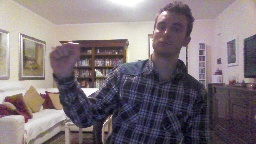Pugno: (47, 40, 81, 80)
